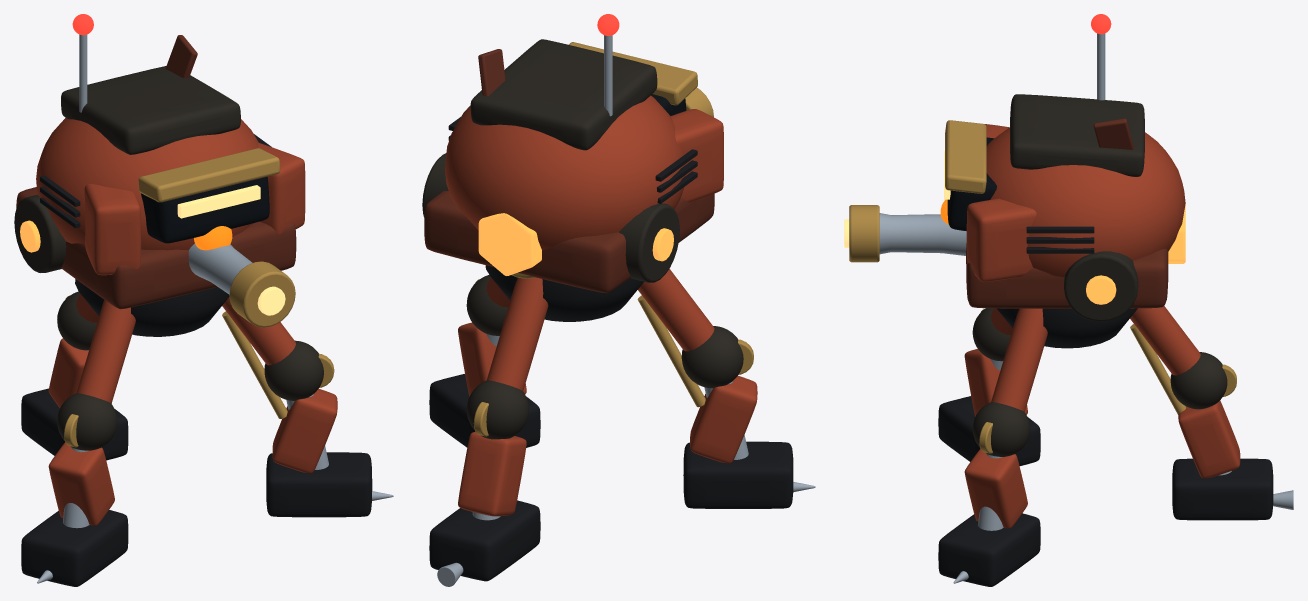
Rendered from gunner.glb.
3 renders of one model, left to right at view 1: azimuth 30°, elevation 25°; view 2: azimuth 150°, elevation 25°; view 3: azimuth 270°, elevation 25°, orthographic. The views are drawn at different scales.
Parts seen in each view (by area): view 1: TurretDome, TurretTop, TurretSkirt, Foot2, Foot1, Cheek-1, Faceplate, Brow, ShinGuard2, ShinGuard1, HipPod, LegUpper1 (+18 smaller); view 2: TurretDome, TurretTop, TurretSkirt, Foot1, Foot0, ShinGuard0, LegUpper0, ShinGuard1, Cheek-1, HipPod, LegUpper1, AmmoDrum-1 (+12 smaller); view 3: TurretDome, TurretTop, Foot0, Foot2, TurretSkirt, Cheek1, AmmoDrum1, LegUpper2, ShinGuard2, ShinGuard0, Barrel, Brow (+13 smaller).
Part boxes in pixels (x1,y1,x2,y2): TurretDome: (36,118,258,250); TurretTop: (61,66,240,154); TurretSkirt: (16,187,296,309); Foot2: (266,452,372,517); Foot1: (21,510,128,586); Cheek-1: (84,184,141,275); Faceplate: (141,176,269,243); Brow: (138,148,280,202); ShinGuard2: (272,388,337,473); ShinGuard1: (48,442,114,525); HipPod: (75,279,229,336); LegUpper1: (76,300,135,403); TurretDome: (445,95,685,250); TurretTop: (470,39,657,150); TurretSkirt: (424,191,714,293); Foot1: (683,441,793,508); Foot0: (429,500,540,581); ShinGuard0: (458,431,526,516); LegUpper0: (486,277,548,390); ShinGuard1: (690,375,757,463); Cheek-1: (670,109,723,202); HipPod: (485,265,643,321); LegUpper1: (638,269,714,351); AmmoDrum-1: (619,203,679,282); TurretDome: (986,127,1185,277); TurretTop: (1010,94,1144,176); Foot0: (1172,458,1273,520); Foot2: (938,513,1040,586); TurretSkirt: (966,243,1168,308); Cheek1: (966,198,1036,281); AmmoDrum1: (1064,251,1138,321); LegUpper2: (991,308,1047,411); ShinGuard2: (964,449,1027,528); ShinGuard0: (1178,400,1240,478); Barrel: (879,213,966,255); Brow: (945,120,986,193).
Size of the model in its own units: 1.16 by 1.53 by 1.33.
